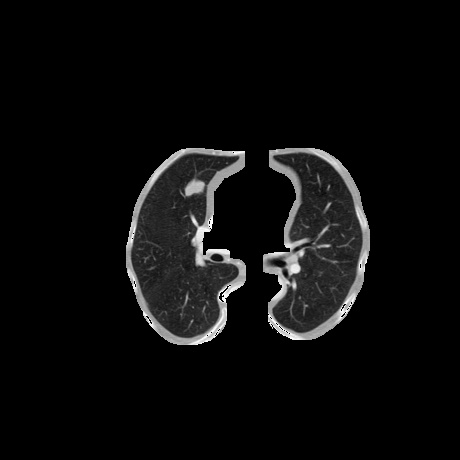PN: (186, 180, 202, 196)
